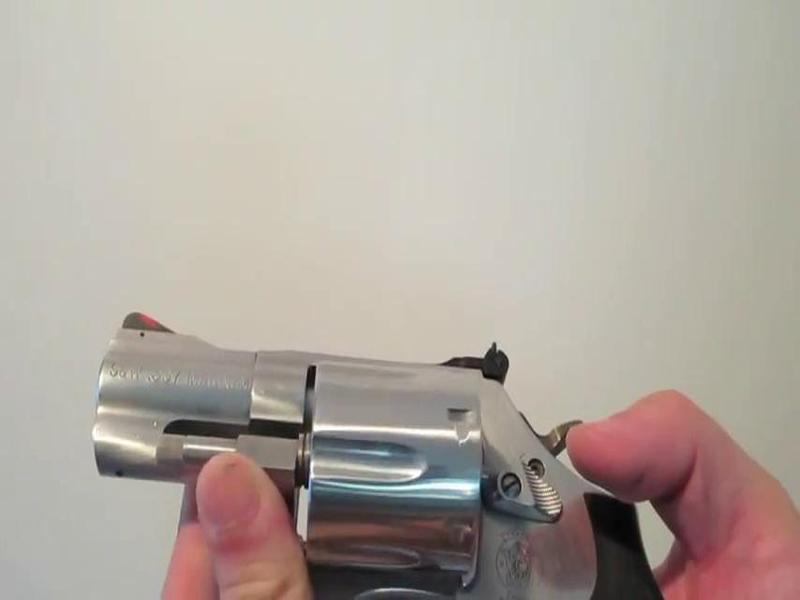Revolver: (78, 287, 709, 600)
